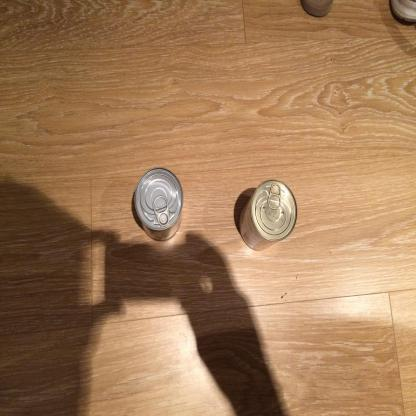metal: (237, 181, 299, 255), (134, 168, 186, 245)
